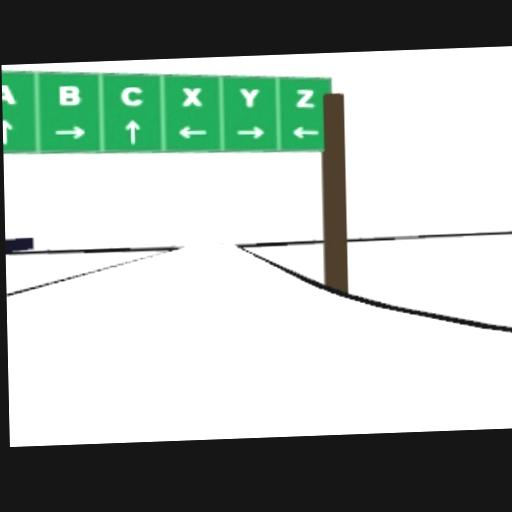A: (2, 83, 16, 104)
B: (58, 84, 80, 105)
C: (120, 86, 142, 107)
Left: (177, 125, 207, 139), (292, 125, 319, 138)
Right: (53, 125, 85, 140), (236, 125, 264, 138)
Straight: (124, 118, 140, 144), (3, 118, 11, 144)
X: (181, 86, 202, 106)
Y: (238, 86, 261, 107)
Z: (296, 88, 315, 108)
